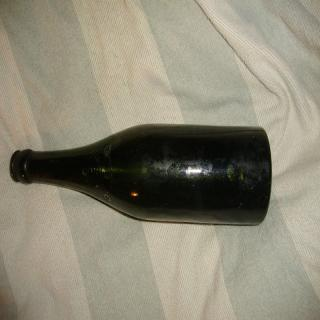GLASS: (10, 110, 274, 237)
